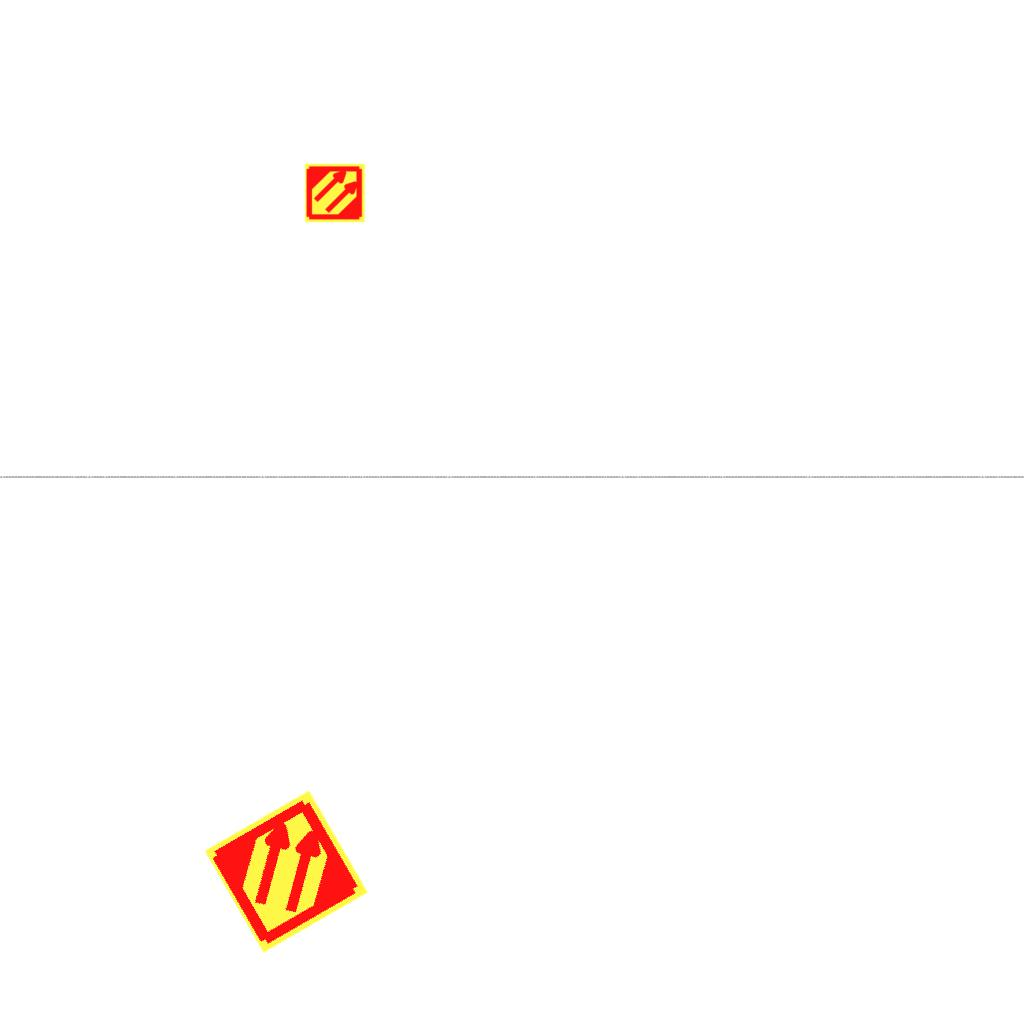ASR_Ansaugrauchmelder: (201, 786, 372, 957), (304, 162, 366, 224)
